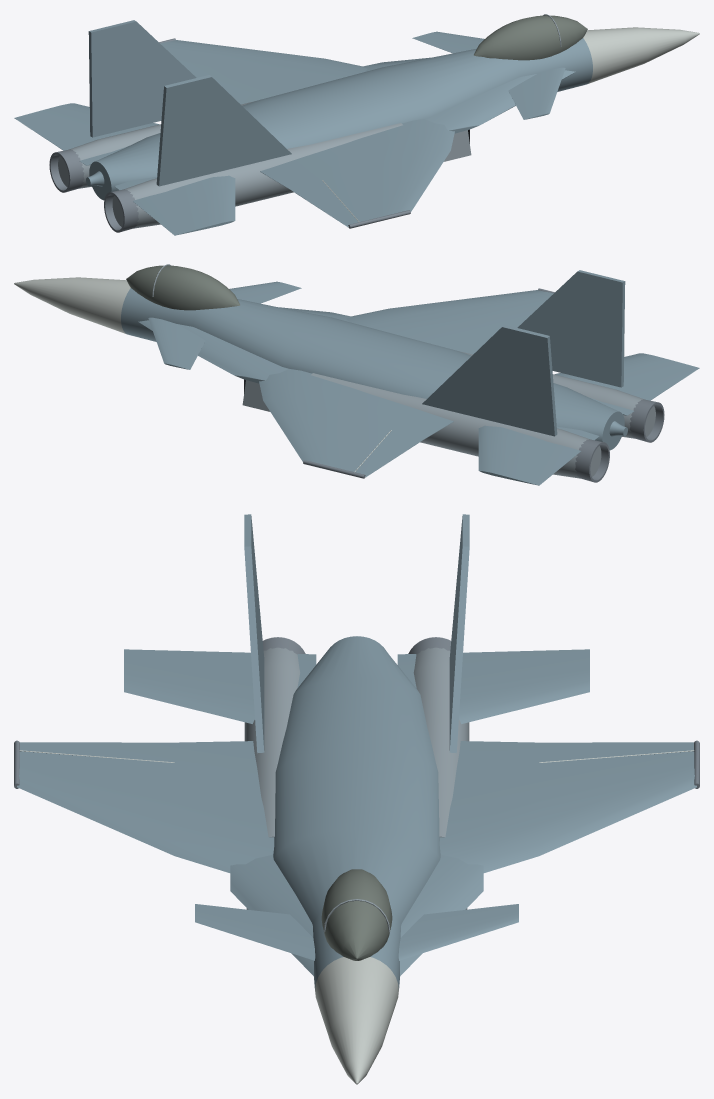
The model's file is pla_fighter_j15.glb.
3 renders of one model, top to bottom at view 1: azimuth 30°, elevation 25°; view 2: azimuth 150°, elevation 25°; view 3: azimuth 270°, elevation 25°, orthographic. The views are drawn at different scales.
Parts seen in each view (by area): view 1: airframe_blue, airframe, array_face, canopy_gold, titanium; view 2: airframe_blue, airframe, array_face, canopy_gold, titanium; view 3: airframe_blue, airframe, array_face, canopy_gold, titanium.
Boxes of the visible parts, x1,y1,x2,y2 form: airframe_blue: [14, 20, 592, 235]; airframe: [58, 14, 561, 228]; array_face: [322, 27, 699, 222]; canopy_gold: [474, 15, 587, 60]; titanium: [49, 38, 410, 232]; airframe_blue: [121, 270, 699, 485]; airframe: [152, 264, 655, 478]; array_face: [14, 277, 391, 472]; canopy_gold: [126, 265, 239, 310]; titanium: [303, 288, 664, 482]; airframe_blue: [17, 514, 696, 989]; airframe: [244, 647, 469, 932]; array_face: [19, 750, 694, 1084]; canopy_gold: [321, 869, 392, 960]; titanium: [14, 637, 699, 788].
Bounding box in the file's own units: 10 × 2.25 × 6.69.
